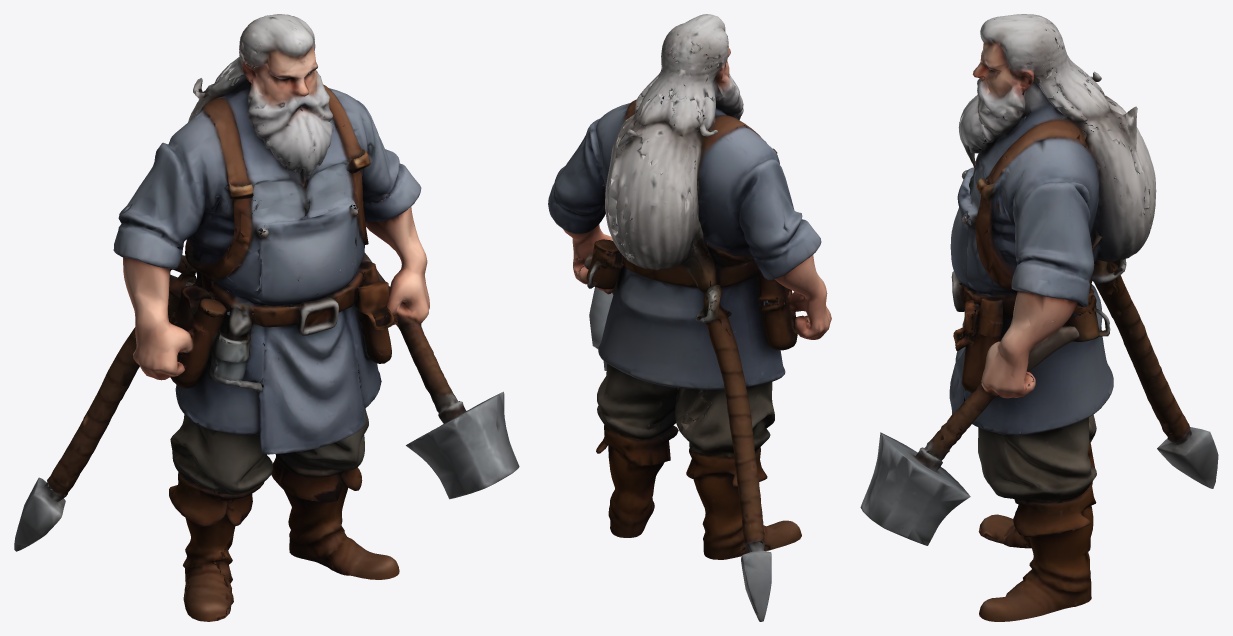
File: fig_npc_torin.glb
3 views of the same model, side by side, from view 1: azimuth 30°, elevation 25°; view 2: azimuth 150°, elevation 25°; view 3: azimuth 270°, elevation 25° (orthographic). The views are drawn at different scales.
Parts seen in each view (by area): view 1: geometry_0; view 2: geometry_0; view 3: geometry_0.
Part boxes in pixels (x1,y1,x2,y2): geometry_0: [14, 14, 519, 621]; geometry_0: [548, 14, 831, 621]; geometry_0: [860, 14, 1218, 621].
Bounding box in the file's own units: 0.5998 × 0.9501 × 0.5562.
1 material, 1 textured.
